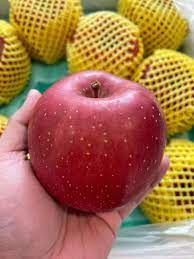apple: (26, 69, 167, 216)
